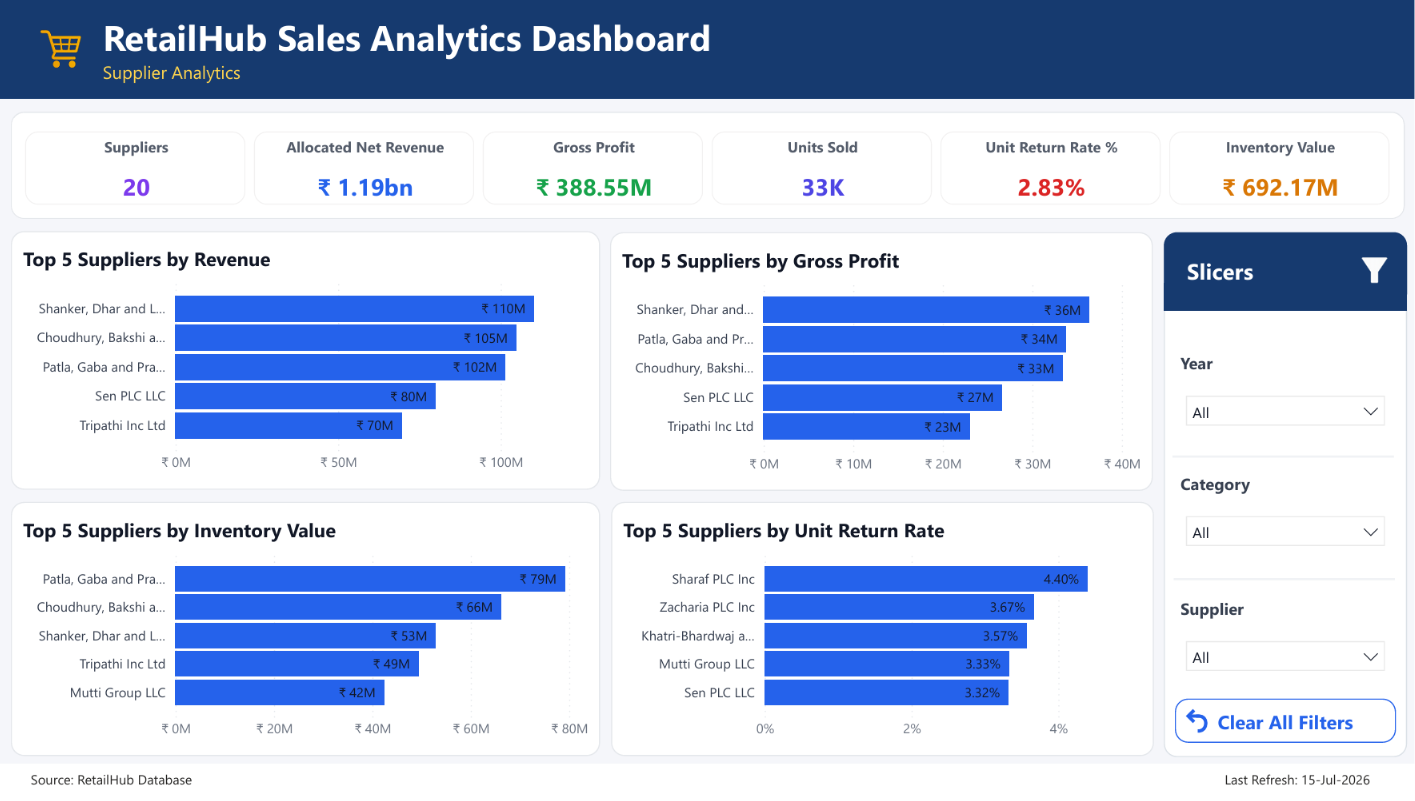

What the dashboard file says about the page in this screenshot:
{"tool":"powerbi","page":{"name":"Supplier Analytics","canvas":[1280,720],"ordinal":4},"visuals":[{"type":"shape","box":[1053.3,211.1,220,474.4],"z":0},{"type":"textbox","box":[0,0,1280,90],"z":1000},{"type":"image","box":[35,25,41.2,41.2],"z":2000},{"type":"slicer","title":"Year","fields":{"Values":["Date.Year"]},"box":[1063,311.1,200,85.6],"z":3000},{"type":"slicer","title":"Category","fields":{"Values":["categories.Category_Name"]},"box":[1063,420,200,85.6],"z":4000},{"type":"slicer","title":"Supplier","fields":{"Values":["suppliers.Supplier_Name"]},"box":[1063.3,533.3,200,85.6],"z":5000},{"type":"cardVisual","title":"Net Revenue","fields":{"Data":["📊 Measures.Total Suppliers","📊 Measures.Allocated Net Revenue","📊 Measures.Gross Profit","📊 Measures.Completed Units Sold","📊 Measures.Unit Return Rate %","📊 Measures.Inventory Value"]},"box":[10,102,1260.7,96.5],"z":6000},{"type":"actionButton","title":"Clear all Filters","box":[1063.3,633.3,200,40],"z":7000},{"type":"shape","box":[0,692,1280,28],"z":8000},{"type":"textbox","box":[22.7,692,164,28],"z":9000},{"type":"textbox","box":[1103.3,692,154,28],"z":10000},{"type":"shape","box":[1062.2,516.7,200,16.7],"z":11000},{"type":"shape","box":[1061.1,405.6,200,16.7],"z":12000},{"type":"shape","box":[1053.3,257,220,25],"z":13000},{"type":"shape","title":"Slicers","box":[1053.3,211.1,220,67.8],"z":14000},{"type":"image","box":[1228.6,233.6,29.3,23.6],"z":15000},{"type":"clusteredBarChart","title":"Top 5 Suppliers by Revenue","fields":{"Category":["suppliers.Supplier_Name"],"Y":["📊 Measures.Allocated Net Revenue"]},"box":[9.7,209.9,533.2,234],"z":16000},{"type":"clusteredBarChart","title":"Top 5 Suppliers by Gross Profit","fields":{"Y":["📊 Measures.Gross Profit"],"Category":["suppliers.Supplier_Name"]},"box":[552,211.1,491,234],"z":17000},{"type":"clusteredBarChart","title":"Top 5 Suppliers by Unit Return Rate","fields":{"Y":["📊 Measures.Unit Return Rate %"],"Category":["suppliers.Supplier_Name"]},"box":[552.5,454.8,491,230.4],"z":18000},{"type":"clusteredBarChart","title":"Top 5 Suppliers by Inventory Value","fields":{"Category":["suppliers.Supplier_Name"],"Y":["📊 Measures.Inventory Value"]},"box":[9.7,454.8,533.2,230.4],"z":19000}]}

Visuals, with their boxes in screenshot pixels (x1, y1, x2, y2), scaled from the page's 1280x720 canvas onto the 1415x801 screenshot:
shape: [1164,235,1408,763]
textbox: [0,0,1414,100]
image: [39,28,84,74]
"Year" slicer: [1175,346,1396,441]
"Category" slicer: [1175,467,1396,562]
"Supplier" slicer: [1175,593,1397,689]
"Net Revenue" cardVisual: [11,113,1405,221]
"Clear all Filters" actionButton: [1175,705,1397,749]
shape: [0,770,1414,800]
textbox: [25,770,206,800]
textbox: [1220,770,1390,800]
shape: [1174,575,1395,593]
shape: [1173,451,1394,470]
shape: [1164,286,1408,314]
"Slicers" shape: [1164,235,1408,310]
image: [1358,260,1391,286]
"Top 5 Suppliers by Revenue" clusteredBarChart: [11,234,600,494]
"Top 5 Suppliers by Gross Profit" clusteredBarChart: [610,235,1153,495]
"Top 5 Suppliers by Unit Return Rate" clusteredBarChart: [611,506,1154,762]
"Top 5 Suppliers by Inventory Value" clusteredBarChart: [11,506,600,762]
